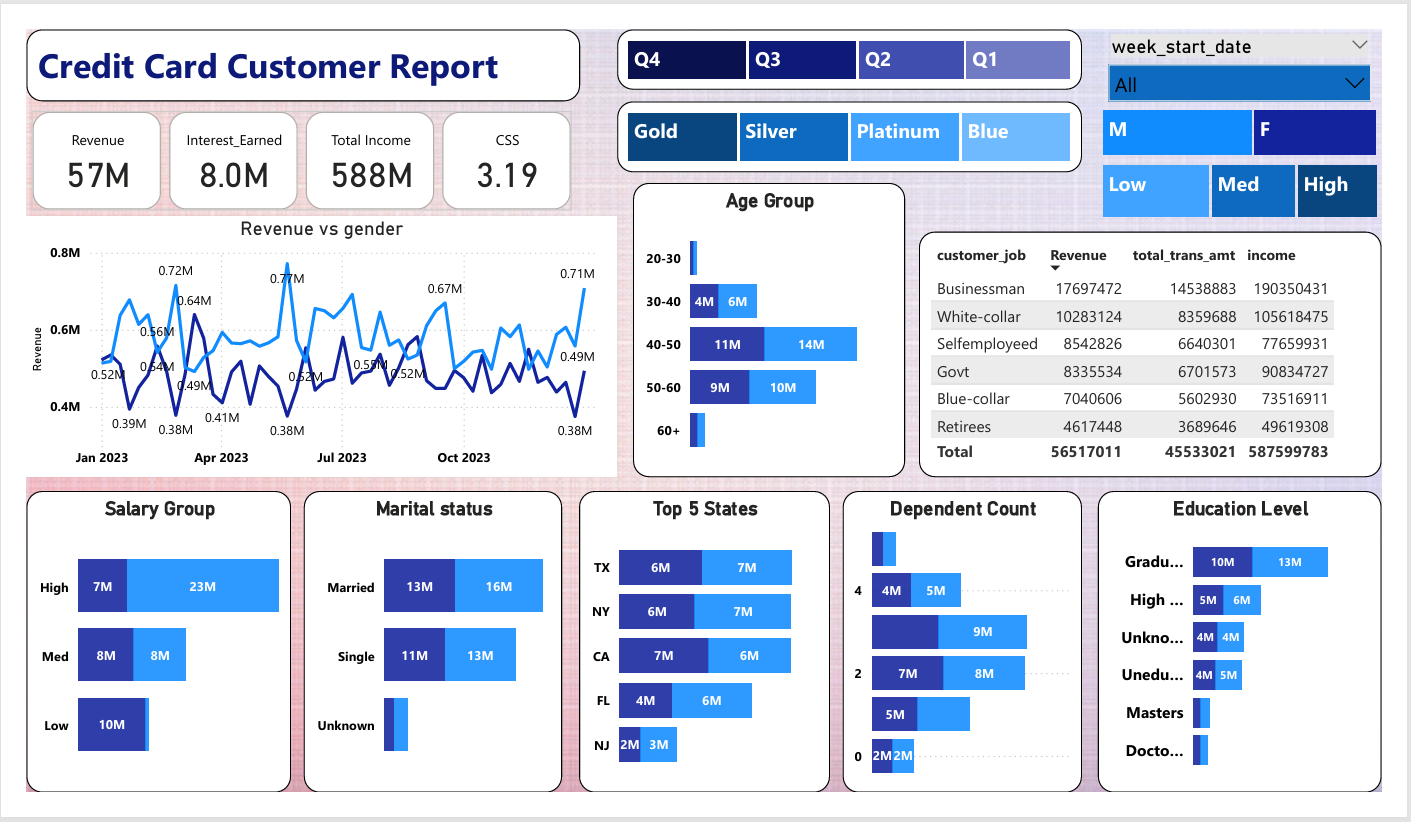

The dashboard page shown, as its layout file describes it:
{"tool":"powerbi","page":{"name":"CUSTOMER REPORT","canvas":[1280,720],"ordinal":1},"visuals":[{"type":"textbox","box":[0,0,523.3,68.4],"z":0},{"type":"barChart","title":"Salary Group","fields":{"Y":["Sum(public cc_detail.Revenue)"],"Category":["public cust_detail.IncomeGroup"],"Series":["public cust_detail.gender"]},"box":[0,435.8,249.7,284.7],"z":1000},{"type":"tableEx","fields":{"Values":["public cust_detail.customer_job","Sum(public cc_detail.Revenue)","Sum(public cc_detail.total_trans_amt)","Sum(public cust_detail.income)"]},"box":[843,190.9,437.4,232.2],"z":2000},{"type":"slicer","fields":{"Values":["public cc_detail.week_start_date"]},"box":[1011.6,0,268.8,81.1],"z":3000},{"type":"treemap","fields":{"Group":["public cust_detail.gender"],"Values":["Sum(public cc_detail.Revenue)"]},"box":[1011.6,71.6,268.8,52.5],"z":4000},{"type":"treemap","fields":{"Group":["public cust_detail.IncomeGroup"],"Values":["CountNonNull(public cc_detail.client_num)"]},"box":[1011.6,124.1,268.8,58.9],"z":5000},{"type":"treemap","fields":{"Values":["Avg(public cc_detail.client_num)"],"Group":["public cc_detail.qtr"]},"box":[558.3,0,439,57.3],"z":6000},{"type":"treemap","fields":{"Group":["public cc_detail.card_category"],"Values":["Min(public cc_detail.client_num)"]},"box":[558.3,68.4,439,66.8],"z":7000},{"type":"cardVisual","fields":{"Data":["Sum(public cc_detail.Revenue)","Sum(public cc_detail.interest_earned)","Sum(public cust_detail.income)","Avg(public cust_detail.cust_satisfaction_score)"]},"box":[0,71.6,523.3,105],"z":8000},{"type":"lineChart","title":"Revenue vs gender","fields":{"Category":["public cc_detail.week_start_date.Variation.Date Hierarchy.Year","public cc_detail.week_start_date.Variation.Date Hierarchy.Month","public cc_detail.week_start_date.Variation.Date Hierarchy.Day"],"Y":["Sum(public cc_detail.Revenue)"],"Series":["public cust_detail.gender"]},"box":[0,176.6,558.3,246.5],"z":9000},{"type":"barChart","title":"Marital status","fields":{"Y":["Sum(public cc_detail.Revenue)"],"Category":["public cust_detail.marital_status"],"Series":["public cust_detail.gender"]},"box":[262.5,435.8,243.4,284.7],"z":11000},{"type":"barChart","title":"Top 5 States","fields":{"Y":["Sum(public cc_detail.Revenue)"],"Category":["public cust_detail.state_cd"],"Series":["public cust_detail.gender"]},"box":[521.7,435.8,237,284.7],"z":12000},{"type":"barChart","title":"Dependent Count","fields":{"Y":["Sum(public cc_detail.Revenue)"],"Category":["public cust_detail.dependent_count"],"Series":["public cust_detail.gender"]},"box":[771.4,435.8,225.9,284.7],"z":13000},{"type":"barChart","title":"Education Level","fields":{"Y":["Sum(public cc_detail.Revenue)"],"Category":["public cust_detail.education_level"],"Series":["public cust_detail.gender"]},"box":[1011.6,435.8,268.8,284.7],"z":14000},{"type":"barChart","title":"Age Group","fields":{"Y":["Sum(public cc_detail.Revenue)"],"Category":["public cust_detail.Age Group"],"Series":["public cust_detail.gender"]},"box":[572.6,144.7,257.7,278.4],"z":15000}]}

Visuals, with their boxes on the page's 1280x720 design canvas (x1, y1, x2, y2). These are canvas units, not pixel positions in the 1411x822 screenshot, which may show the page scaled, cropped or inside an application window:
textbox: box(0, 0, 523, 68)
"Salary Group" barChart: box(0, 436, 250, 720)
tableEx - public cust_detail.customer_job x Sum(public cc_detail.Revenue): box(843, 191, 1280, 423)
slicer - public cc_detail.week_start_date: box(1012, 0, 1280, 81)
treemap - public cust_detail.gender x Sum(public cc_detail.Revenue): box(1012, 72, 1280, 124)
treemap - public cust_detail.IncomeGroup x CountNonNull(public cc_detail.client_num): box(1012, 124, 1280, 183)
treemap - Avg(public cc_detail.client_num) x public cc_detail.qtr: box(558, 0, 997, 57)
treemap - public cc_detail.card_category x Min(public cc_detail.client_num): box(558, 68, 997, 135)
cardVisual - Sum(public cc_detail.Revenue) x Sum(public cc_detail.interest_earned): box(0, 72, 523, 177)
"Revenue vs gender" lineChart: box(0, 177, 558, 423)
"Marital status" barChart: box(262, 436, 506, 720)
"Top 5 States" barChart: box(522, 436, 759, 720)
"Dependent Count" barChart: box(771, 436, 997, 720)
"Education Level" barChart: box(1012, 436, 1280, 720)
"Age Group" barChart: box(573, 145, 830, 423)
